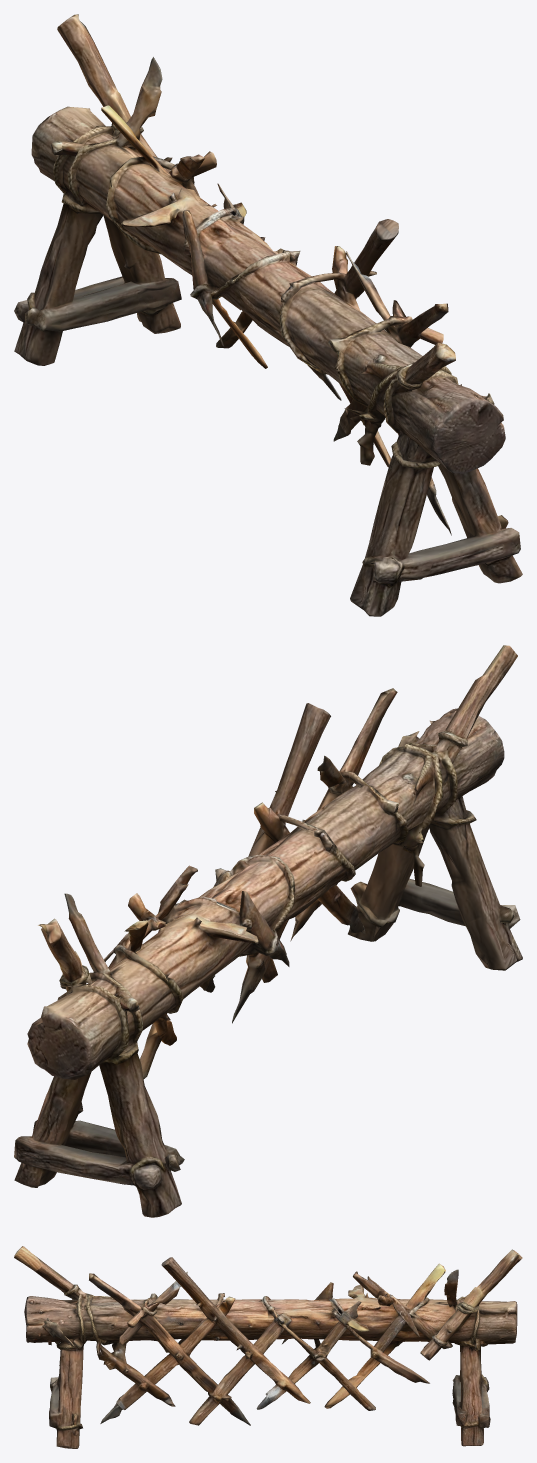
The model's file is juma-high.glb.
3 renders of one model, top to bottom at view 1: azimuth 30°, elevation 25°; view 2: azimuth 150°, elevation 25°; view 3: azimuth 270°, elevation 25°, orthographic. The views are drawn at different scales.
Size of the model in its own units: 0.2154 by 0.39 by 0.9981.
Materials: 1 (1 with a texture image).
